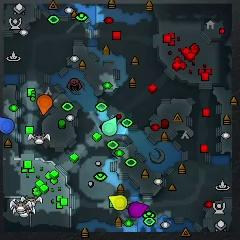p1: (0, 116, 15, 134)
p2: (102, 118, 117, 136)
p3: (129, 202, 149, 217)
p4: (109, 195, 127, 209)
p5: (36, 94, 53, 113)
